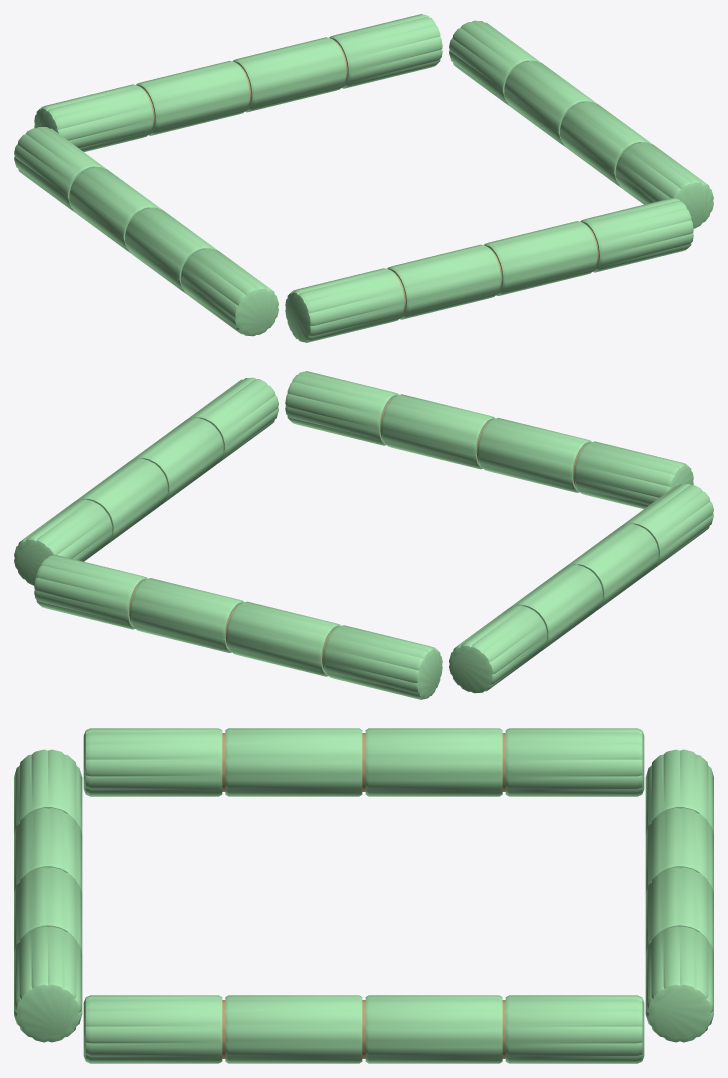
The model's file is CellSeal.fbx.
3 views of the same model, one above another, from view 1: azimuth 30°, elevation 25°; view 2: azimuth 150°, elevation 25°; view 3: azimuth 270°, elevation 25° (orthographic). The views are drawn at different scales.
Parts seen in each view (by area): view 1: Cylinder.004, Cylinder.007, Cylinder.006, Cylinder.005; view 2: Cylinder.007, Cylinder.004, Cylinder.006, Cylinder.005; view 3: Cylinder.005, Cylinder.006, Cylinder.004, Cylinder.007.
Part boxes in pixels (bbox=[...]): Cylinder.004: bbox=[285, 198, 693, 342]; Cylinder.007: bbox=[34, 14, 442, 151]; Cylinder.006: bbox=[14, 127, 278, 336]; Cylinder.005: bbox=[449, 20, 713, 228]; Cylinder.007: bbox=[34, 555, 442, 699]; Cylinder.004: bbox=[285, 371, 693, 508]; Cylinder.006: bbox=[449, 484, 713, 693]; Cylinder.005: bbox=[14, 377, 278, 585]; Cylinder.005: bbox=[83, 995, 644, 1063]; Cylinder.006: bbox=[83, 728, 644, 796]; Cylinder.004: bbox=[14, 749, 82, 1042]; Cylinder.007: bbox=[645, 749, 713, 1042].
Bounding box in the file's own units: 997 × 97.11 × 997.
